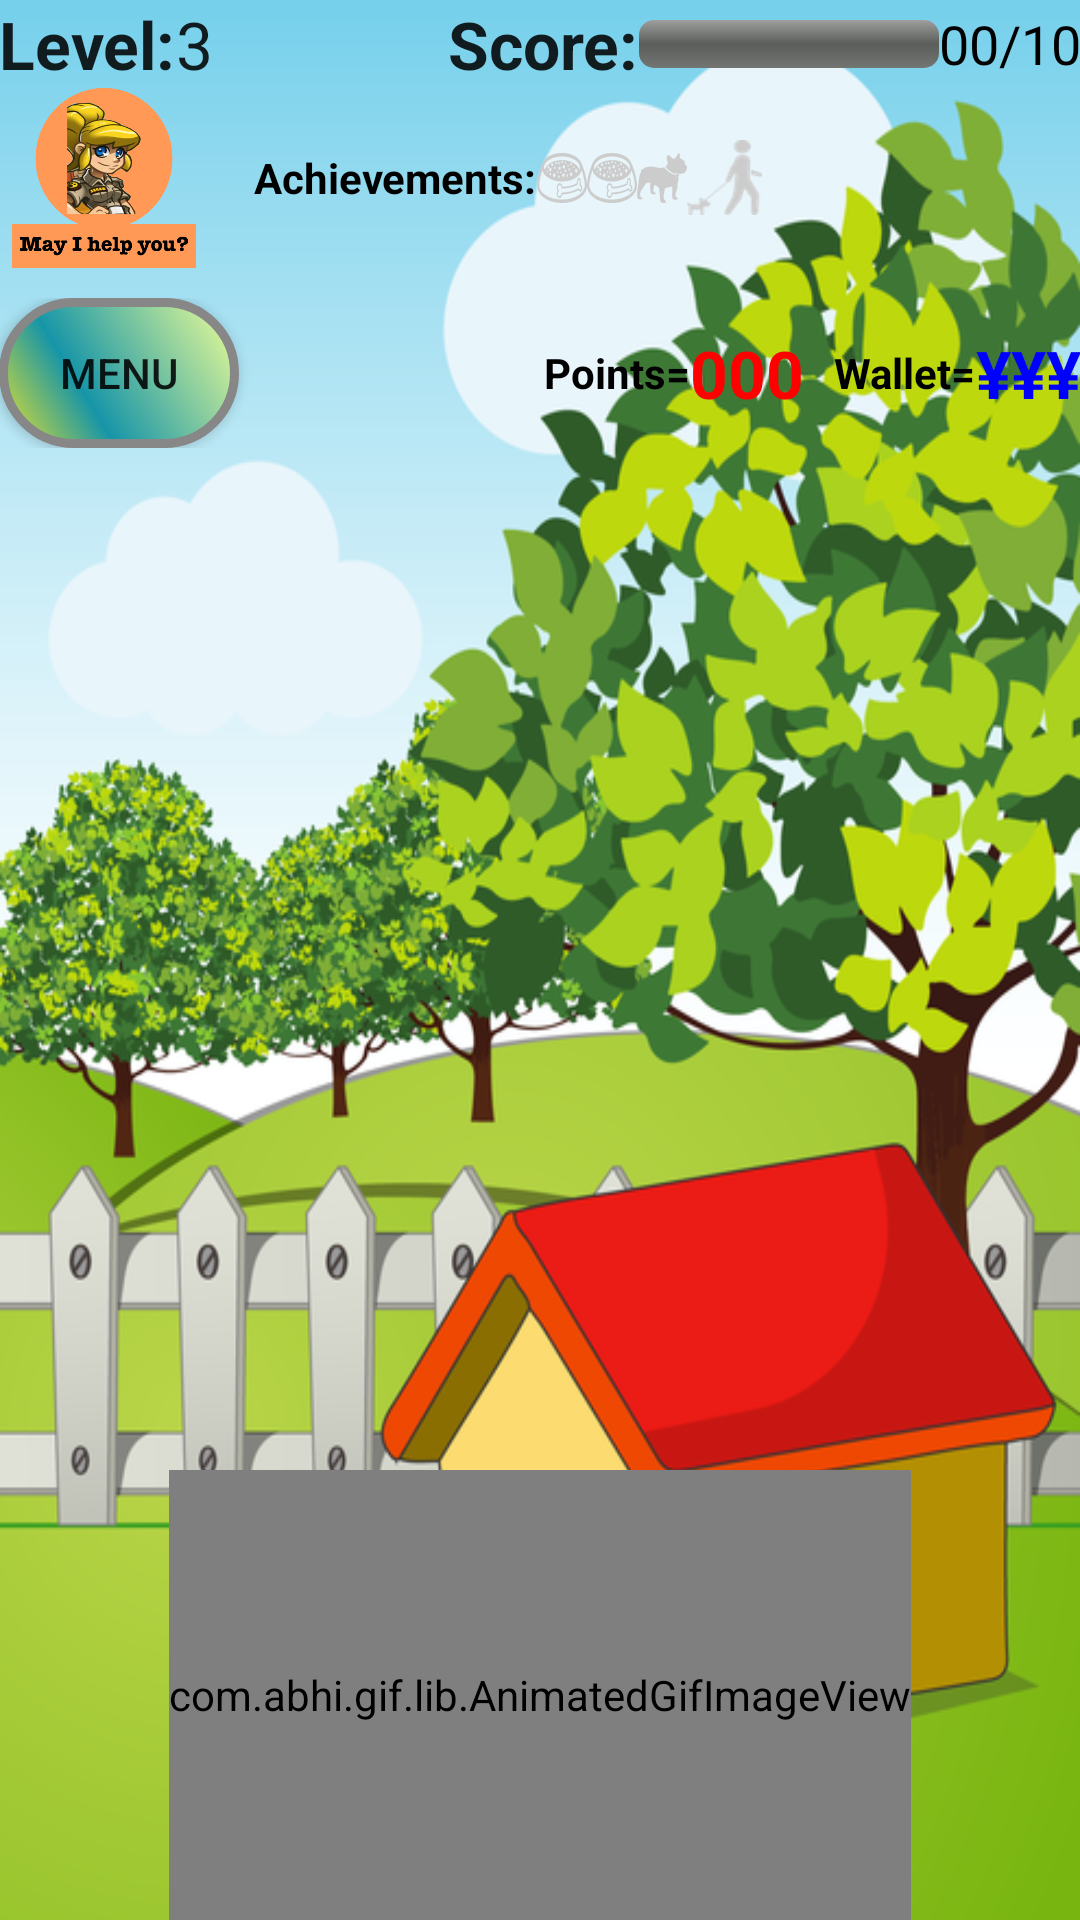

Named icons in this screenshot (1080x1920) and their centers, [x,y]:
dog plate: [562,178], [612,178]
dog walk: [724,177]
